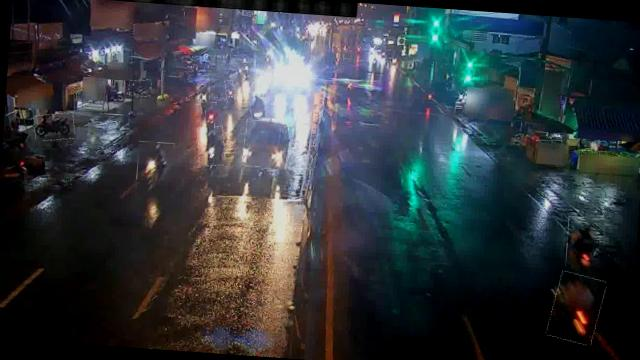Bike: (547, 272, 604, 344), (135, 141, 174, 190), (566, 217, 598, 270), (194, 124, 226, 166), (33, 111, 76, 142), (248, 90, 266, 119), (128, 78, 152, 98), (204, 102, 216, 134), (197, 84, 210, 111), (223, 80, 234, 105)
Car: (242, 119, 289, 169)
